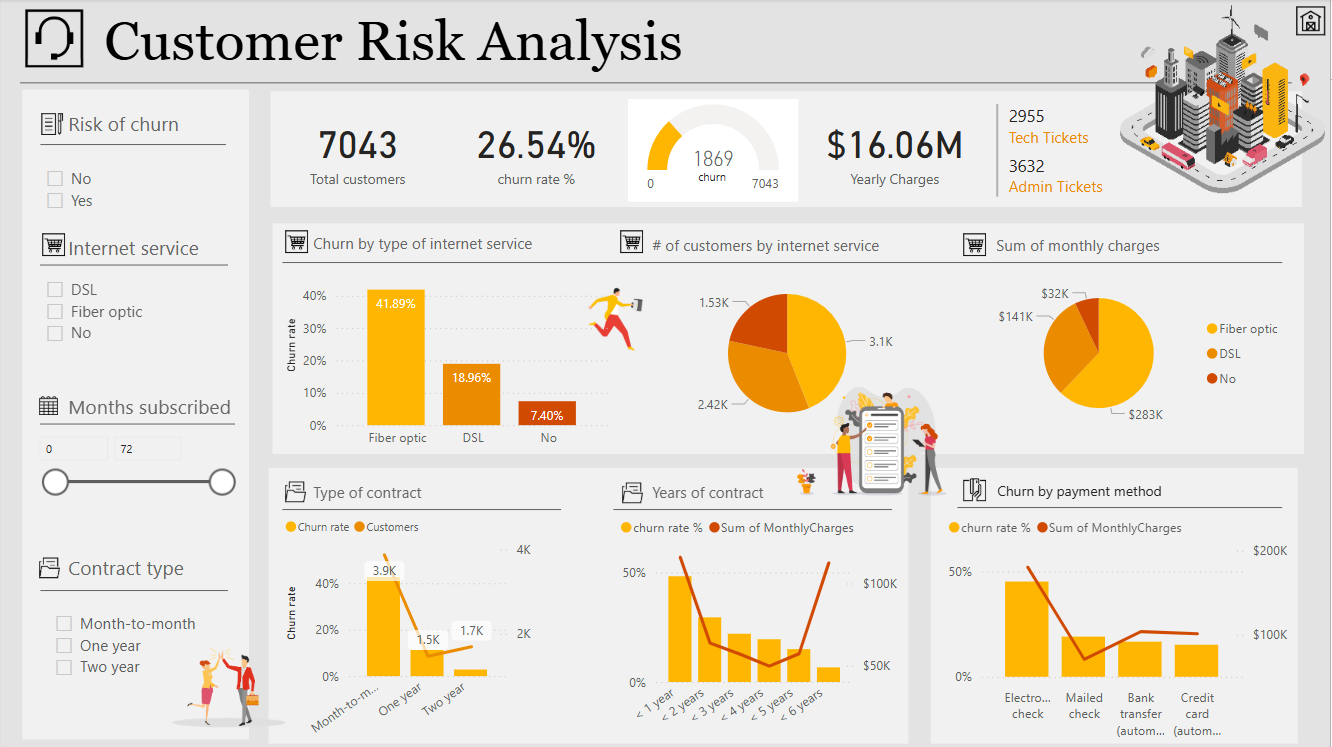

What the dashboard file says about the page in this screenshot:
{"tool":"powerbi","page":{"name":"Customer Risk Analysis","canvas":[1280,720],"ordinal":2},"visuals":[{"type":"basicShape","box":[249.8,87.8,1013.8,113.8],"z":0},{"type":"basicShape","box":[892.2,448.5,360.8,271],"z":1000},{"type":"basicShape","box":[251.8,448.5,628.9,271],"z":2000},{"type":"textbox","box":[94.5,4.8,1167.1,75.2],"z":3000},{"type":"basicShape","box":[9,61,1244.3,40.1],"z":4000},{"type":"basicShape","box":[251.8,214.2,1013.8,226.7],"z":5000},{"type":"basicShape","box":[18.3,81,222.8,638.6],"z":6000},{"type":"card","fields":{"Values":["Count(churn.customerID)"]},"box":[261.4,89,164.9,113.8],"z":7000},{"type":"gauge","fields":{"MaxValue":["CountNonNull(churn.customerID)"],"Y":["churn.Count of Churn for Yes"]},"box":[603.8,96.2,164,99.4],"z":8000},{"type":"slicer","fields":{"Values":["churn.Contract"]},"box":[40.5,584.5,178.4,79.1],"z":9000},{"type":"card","fields":{"Values":["Sum(churn.TotalCharges)"]},"box":[778.4,89,164.9,113.8],"z":10000},{"type":"slicer","fields":{"Values":["churn.Churn"]},"box":[31.8,156.3,173.6,57.9],"z":11000},{"type":"image","box":[557.5,242.1,66.6,129.3],"z":12000},{"type":"image","box":[150.5,610.6,136,105.1],"z":13000},{"type":"slicer","title":"Number of months subscribed","fields":{"Values":["churn.tenure"]},"box":[24.1,410.9,210.3,70.4],"z":14000},{"type":"image","box":[17.4,4.8,67.5,65.6],"z":15000},{"type":"textbox","box":[59.8,102.2,174.6,40.5],"z":16000},{"type":"basicShape","box":[28,120.6,198.7,39.5],"z":17000},{"type":"textbox","box":[59.8,374.3,185.2,39.5],"z":18000},{"type":"basicShape","box":[28,389.7,207.4,38.6],"z":19000},{"type":"basicShape","box":[28,549.8,200.6,39.5],"z":20000},{"type":"image","box":[31.8,374.3,28,34.7],"z":21000},{"type":"textbox","box":[59.8,529.6,159.2,40.5],"z":22000},{"type":"image","box":[31.8,105.1,34.7,30.9],"z":23000},{"type":"image","box":[31.8,524.7,29.9,45.3],"z":24000},{"type":"textbox","box":[59.8,221.2,180.4,40.5],"z":25000},{"type":"basicShape","box":[28,237,200.6,38.6],"z":26000},{"type":"slicer","fields":{"Values":["churn.InternetService"]},"box":[31.8,263.3,200.6,78.1],"z":27000},{"type":"card","fields":{"Values":["churn.churn rate %"]},"box":[437,89,156.3,113.8],"z":28000},{"type":"lineClusteredColumnComboChart","fields":{"Category":["churn.Contract"],"Y":["churn.churn rate %"],"Y2":["CountNonNull(churn.customerID)"]},"box":[269.1,489,246.9,230.5],"z":29000},{"type":"lineClusteredColumnComboChart","fields":{"Y":["churn.churn rate %"],"Y2":["Sum(churn.MonthlyCharges)"],"Category":["churn.Loyalty"]},"box":[591.3,489,276.8,230.5],"z":30000},{"type":"textbox","box":[296.1,220,300.9,40.5],"z":31000},{"type":"basicShape","box":[261.4,234.4,982.9,39.5],"z":32000},{"type":"clusteredColumnChart","fields":{"Category":["churn.InternetService"],"Y":["churn.churn rate %"]},"box":[269.1,242.1,322.2,198.7],"z":33000},{"type":"pieChart","fields":{"Y":["Sum(churn.MonthlyCharges)"],"Category":["churn.InternetService"]},"box":[949.1,264.3,295.2,154.3],"z":34000},{"type":"pieChart","fields":{"Category":["churn.InternetService"],"Y":["CountNonNull(churn.customerID)"]},"box":[622.2,261.4,270.1,160.1],"z":35000},{"type":"textbox","box":[954,221.9,283.6,40.5],"z":36000},{"type":"textbox","box":[622.2,221.9,285.5,40.5],"z":37000},{"type":"basicShape","box":[261.4,471.7,288.4,39.5],"z":38000},{"type":"textbox","box":[296.1,459.1,237.3,40.5],"z":39000},{"type":"textbox","box":[622.2,459.1,270.1,40.5],"z":40000},{"type":"basicShape","box":[579.7,471.7,288.4,39.5],"z":41000},{"type":"lineClusteredColumnComboChart","fields":{"Y":["churn.churn rate %"],"Y2":["Sum(churn.MonthlyCharges)"],"Category":["churn.PaymentMethod"]},"box":[907.7,489,336.6,230.5],"z":42000},{"type":"basicShape","box":[911.5,469.8,332.8,39.5],"z":43000},{"type":"textbox","box":[954.3,459.1,270.1,40.5],"z":44000},{"type":"multiRowCard","fields":{"Values":["Sum(churn.numTechTickets)","Sum(churn.numAdminTickets)"]},"box":[954,96.2,207.4,99.4],"z":45000},{"type":"image","box":[922.1,452.4,31.8,39.5],"z":46000},{"type":"image","box":[593.2,452.4,29.9,45.3],"z":47000},{"type":"image","box":[269.1,451.4,29.9,45.3],"z":48000},{"type":"image","box":[34.7,219.9,31.8,34.7],"z":49000},{"type":"image","box":[269.1,217,31.8,34.7],"z":50000},{"type":"image","box":[591.3,217,31.8,34.7],"z":51000},{"type":"image","box":[922.1,219.9,31.8,34.7],"z":52000},{"type":"textbox","box":[666.5,156.3,57.9,28.9],"z":53000},{"type":"image","box":[1072.6,0,207.4,193.9],"z":54000},{"type":"image","box":[1242,0,38,42.9],"z":55000},{"type":"image","box":[752.4,361.7,191,129.3],"z":56000}]}

Visuals, with their boxes in screenshot pixels (x1, y1, x2, y2), scaled from the page's 1280x720 canvas onto the 1332x747 screenshot:
basicShape: [260, 91, 1315, 209]
basicShape: [928, 465, 1304, 746]
basicShape: [262, 465, 916, 746]
textbox: [98, 5, 1313, 83]
basicShape: [9, 63, 1304, 105]
basicShape: [262, 222, 1317, 457]
basicShape: [19, 84, 251, 746]
card - Count(churn.customerID): [272, 92, 444, 210]
gauge - CountNonNull(churn.customerID) x churn.Count of Churn for Yes: [628, 100, 799, 203]
slicer - churn.Contract: [42, 606, 228, 688]
card - Sum(churn.TotalCharges): [810, 92, 982, 210]
slicer - churn.Churn: [33, 162, 214, 222]
image: [580, 251, 649, 385]
image: [157, 633, 298, 743]
"Number of months subscribed" slicer: [25, 426, 244, 499]
image: [18, 5, 88, 73]
textbox: [62, 106, 244, 148]
basicShape: [29, 125, 236, 166]
textbox: [62, 388, 255, 429]
basicShape: [29, 404, 245, 444]
basicShape: [29, 570, 238, 611]
image: [33, 388, 62, 424]
textbox: [62, 549, 228, 591]
image: [33, 109, 69, 141]
image: [33, 544, 64, 591]
textbox: [62, 229, 250, 272]
basicShape: [29, 246, 238, 286]
slicer - churn.InternetService: [33, 273, 242, 354]
card - churn.churn rate %: [455, 92, 617, 210]
lineClusteredColumnComboChart - churn.Contract x churn.churn rate %: [280, 507, 537, 746]
lineClusteredColumnComboChart - churn.churn rate % x Sum(churn.MonthlyCharges): [615, 507, 903, 746]
textbox: [308, 228, 621, 270]
basicShape: [272, 243, 1295, 284]
clusteredColumnChart - churn.InternetService x churn.churn rate %: [280, 251, 615, 457]
pieChart - Sum(churn.MonthlyCharges) x churn.InternetService: [988, 274, 1295, 434]
pieChart - churn.InternetService x CountNonNull(churn.customerID): [647, 271, 929, 437]
textbox: [993, 230, 1288, 272]
textbox: [647, 230, 945, 272]
basicShape: [272, 489, 572, 530]
textbox: [308, 476, 555, 518]
textbox: [647, 476, 929, 518]
basicShape: [603, 489, 903, 530]
lineClusteredColumnComboChart - churn.churn rate % x Sum(churn.MonthlyCharges): [945, 507, 1295, 746]
basicShape: [949, 487, 1295, 528]
textbox: [993, 476, 1274, 518]
multiRowCard - Sum(churn.numTechTickets) x Sum(churn.numAdminTickets): [993, 100, 1209, 203]
image: [960, 469, 993, 510]
image: [617, 469, 648, 516]
image: [280, 468, 311, 515]
image: [36, 228, 69, 264]
image: [280, 225, 313, 261]
image: [615, 225, 648, 261]
image: [960, 228, 993, 264]
textbox: [694, 162, 754, 192]
image: [1116, 0, 1331, 201]
image: [1292, 0, 1331, 45]
image: [783, 375, 982, 509]
